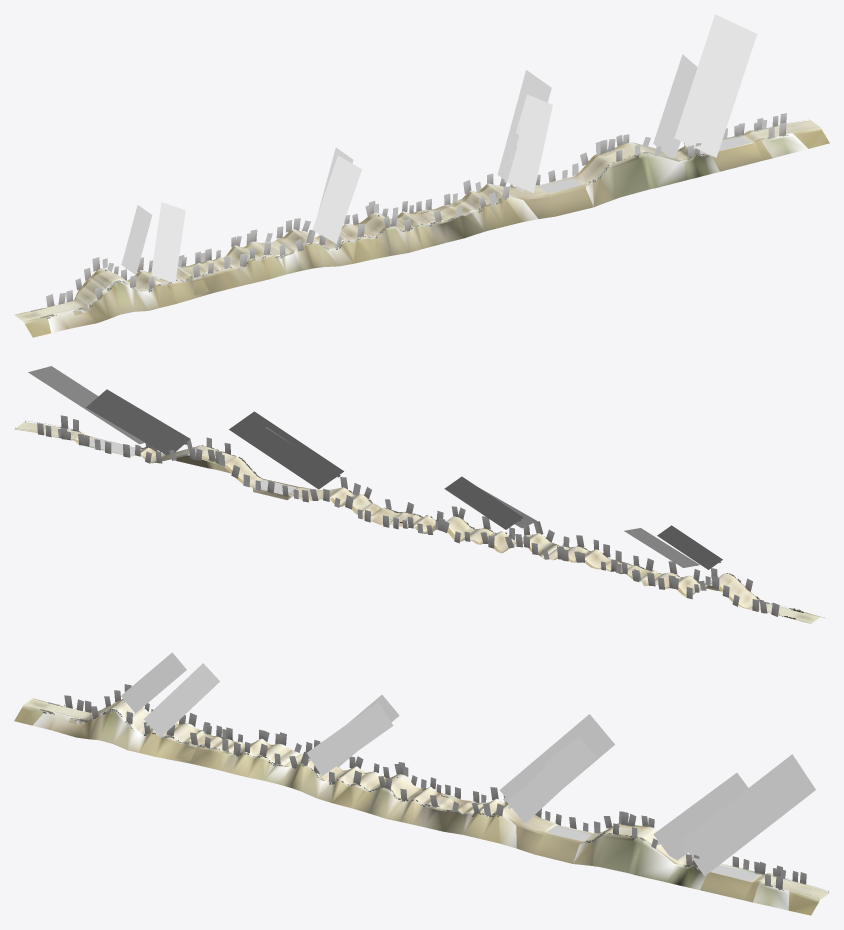
Rendered from Beach_06.fbx.
3 views of the same model, one above another, from view 1: azimuth 30°, elevation 25°; view 2: azimuth 150°, elevation 25°; view 3: azimuth 330°, elevation 25° (orthographic).
Visible parts, largest first — view 1: Light_01, Mountain_01, Tree_01, Ground_01, Road_01, Sea_01; view 2: Light_01, Tree_01, Ground_01, Road_01, Sea_01; view 3: Light_01, Mountain_01, Tree_01, Road_01, Ground_01, Sea_01.
Part boxes in pixels (x1,y1,x2,y2): Light_01: [121, 14, 757, 283]; Mountain_01: [47, 133, 807, 332]; Tree_01: [46, 113, 788, 318]; Ground_01: [15, 121, 819, 321]; Road_01: [14, 120, 829, 337]; Sea_01: [539, 136, 750, 193]; Light_01: [28, 366, 722, 569]; Tree_01: [37, 415, 800, 616]; Ground_01: [15, 422, 819, 622]; Road_01: [14, 422, 824, 623]; Sea_01: [89, 438, 295, 493]; Light_01: [121, 652, 815, 876]; Mountain_01: [33, 708, 789, 910]; Tree_01: [43, 684, 806, 890]; Road_01: [14, 698, 829, 915]; Ground_01: [24, 699, 828, 899]; Sea_01: [547, 826, 758, 881].
Bounding box in the file's own units: 65094 × 9019 × 7058.
